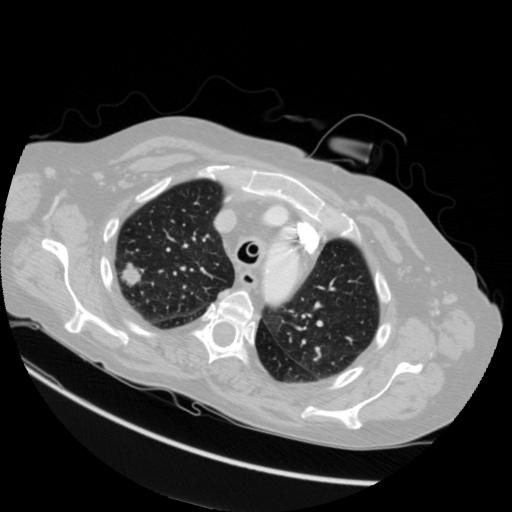nodule: (115, 260, 146, 291)
